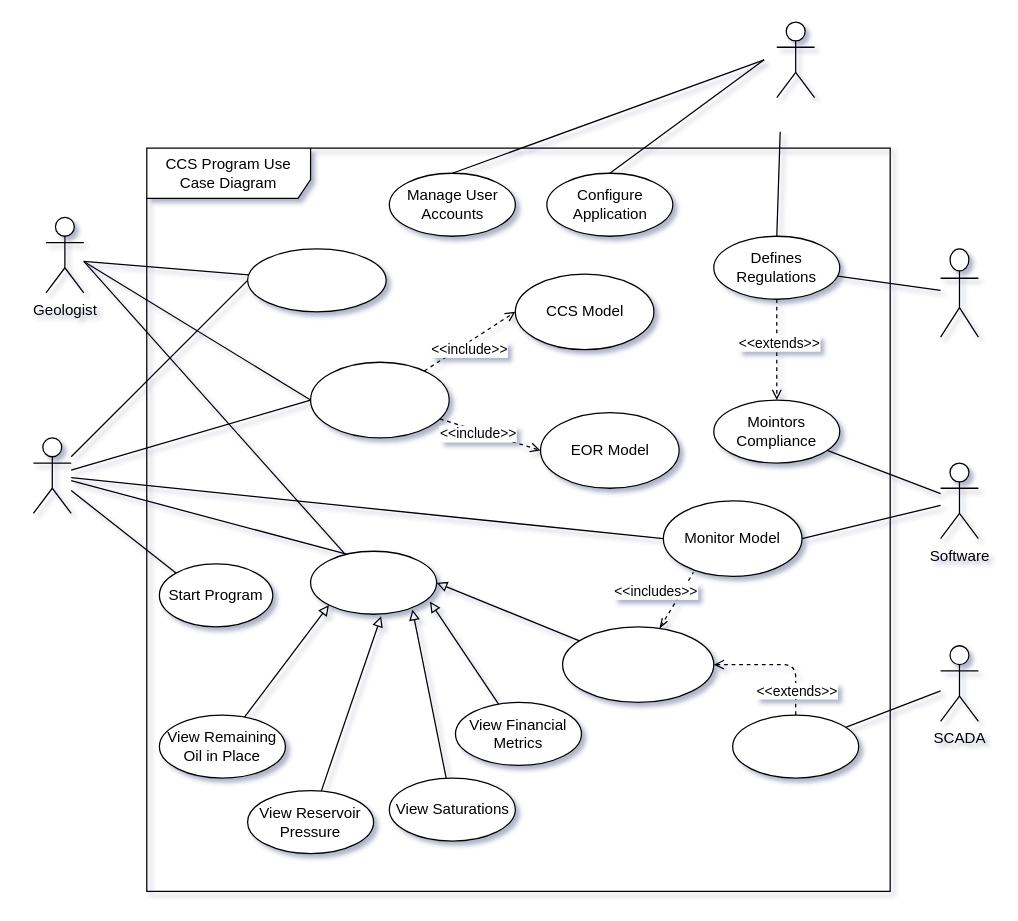
Image size: 1018x921. Some labels were removed from this diagram. Here are the shapes that lost their labels. From the top down, the box of each, then its label:
(776, 21, 815, 98): Admin
(246, 248, 386, 312): Input Project Data
(939, 248, 978, 337): AER
(309, 361, 449, 438): Build Model
(32, 437, 71, 513): Engineer
(309, 550, 437, 614): View Data
(561, 626, 714, 702): View Expected VS Live Data
(731, 714, 859, 778): Provides Data
